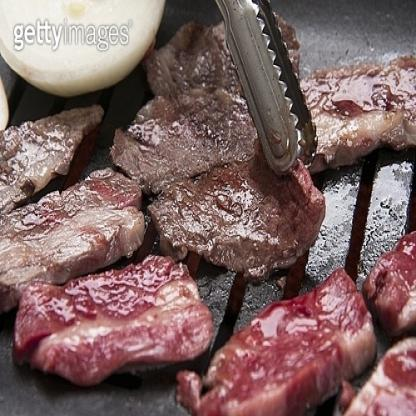Carne: (162, 153, 314, 278), (0, 167, 141, 267), (110, 91, 267, 172), (0, 105, 103, 190), (325, 70, 415, 151), (147, 48, 230, 100)
